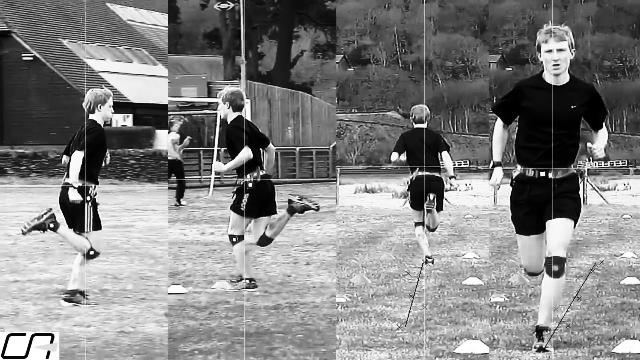berlari: (486, 21, 612, 355), (207, 74, 323, 296), (13, 84, 117, 310), (386, 94, 460, 272)
